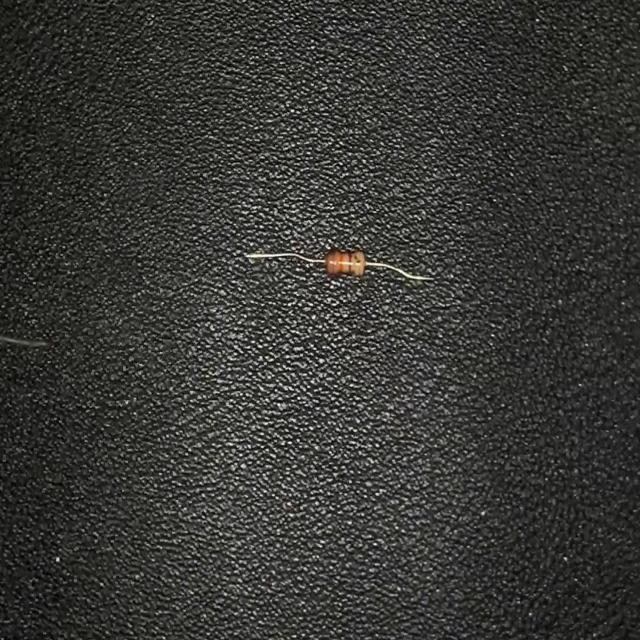burnt: (324, 246, 340, 278)
faded: (353, 250, 363, 277)
resistor: (241, 243, 437, 287)
